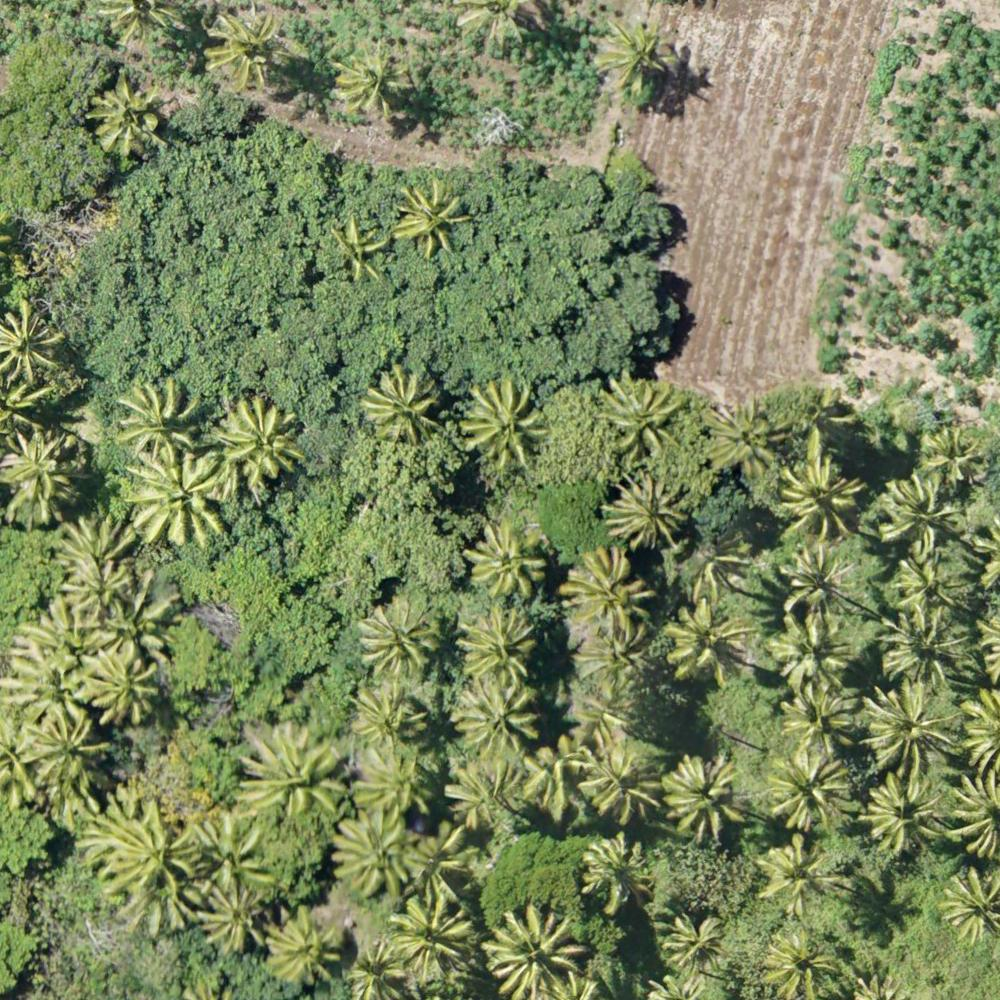Palm: (240, 724, 348, 821), (131, 448, 236, 545), (485, 907, 587, 998), (597, 369, 687, 466), (863, 680, 961, 768), (99, 809, 197, 896), (203, 8, 299, 95), (458, 380, 546, 471), (565, 544, 656, 631), (357, 595, 445, 680), (776, 461, 864, 545), (874, 604, 966, 683), (331, 812, 417, 895), (390, 894, 469, 984), (461, 521, 546, 604), (763, 748, 849, 829), (219, 397, 305, 477), (186, 813, 272, 892), (762, 611, 850, 688), (706, 395, 788, 477), (663, 756, 743, 838), (875, 477, 961, 552), (119, 378, 198, 457), (21, 715, 103, 791), (659, 610, 749, 679), (5, 435, 76, 522), (86, 78, 164, 157), (82, 648, 158, 728), (202, 877, 278, 957), (775, 685, 858, 758), (605, 474, 690, 544), (364, 366, 440, 444), (445, 752, 522, 828), (593, 19, 672, 93), (262, 905, 337, 982), (863, 773, 940, 848), (582, 746, 661, 819), (452, 678, 533, 748), (55, 550, 130, 624), (461, 606, 534, 680), (1, 305, 70, 383), (390, 180, 465, 251), (581, 835, 650, 910), (766, 934, 844, 1000), (345, 681, 426, 744), (331, 44, 408, 110), (776, 543, 848, 609), (761, 835, 826, 905), (357, 745, 426, 810), (914, 423, 980, 488), (896, 551, 958, 619), (663, 910, 726, 976), (329, 209, 387, 276), (346, 940, 410, 1000), (946, 873, 1000, 938)
